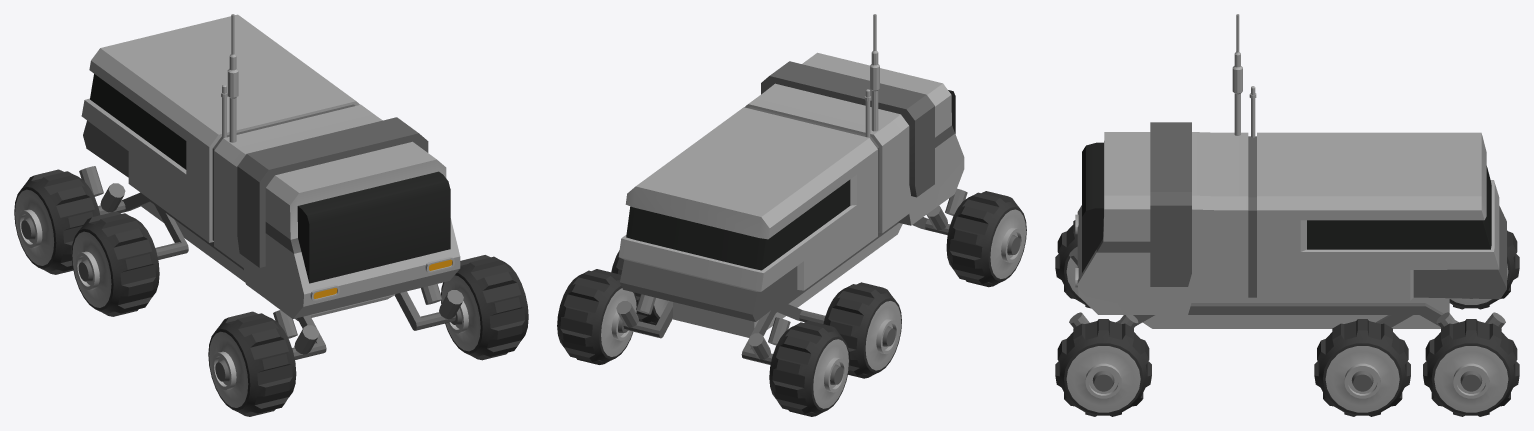
File: rover-1.glb
3 views of the same model, side by side, from view 1: azimuth 30°, elevation 25°; view 2: azimuth 150°, elevation 25°; view 3: azimuth 270°, elevation 25° (orthographic). The views are drawn at different scales.
Parts seen in each view (by area): view 1: Rover_2, Wheel_2.002, Wheel_6, Wheel_3.002, Wheel_2.001; view 2: Rover_2, Wheel_2.001, Wheel_2.002, Wheel_3.001, Wheel_6, Wheel_1.001; view 3: Rover_2, Wheel_3.001, Wheel_3.002, Wheel_1.001, Wheel_2.002, Wheel_2.001.
Boxes of the visible parts, x1,y1,x2,y2 form: Rover_2: [79, 14, 463, 359]; Wheel_2.002: [208, 311, 296, 416]; Wheel_6: [71, 211, 159, 316]; Wheel_3.002: [441, 255, 528, 360]; Wheel_2.001: [14, 169, 99, 274]; Rover_2: [616, 14, 967, 364]; Wheel_2.001: [769, 320, 849, 416]; Wheel_2.002: [946, 191, 1026, 287]; Wheel_3.001: [557, 269, 637, 364]; Wheel_6: [823, 282, 901, 378]; Wheel_1.001: [611, 250, 668, 325]; Rover_2: [1069, 14, 1506, 328]; Wheel_3.001: [1423, 319, 1519, 416]; Wheel_3.002: [1055, 319, 1151, 416]; Wheel_1.001: [1314, 319, 1410, 416]; Wheel_2.002: [1055, 220, 1090, 308]; Wheel_2.001: [1449, 230, 1519, 309].
Bounding box in the file's own units: 4.58 × 4.88 × 6.56.
1 material, 1 textured.
